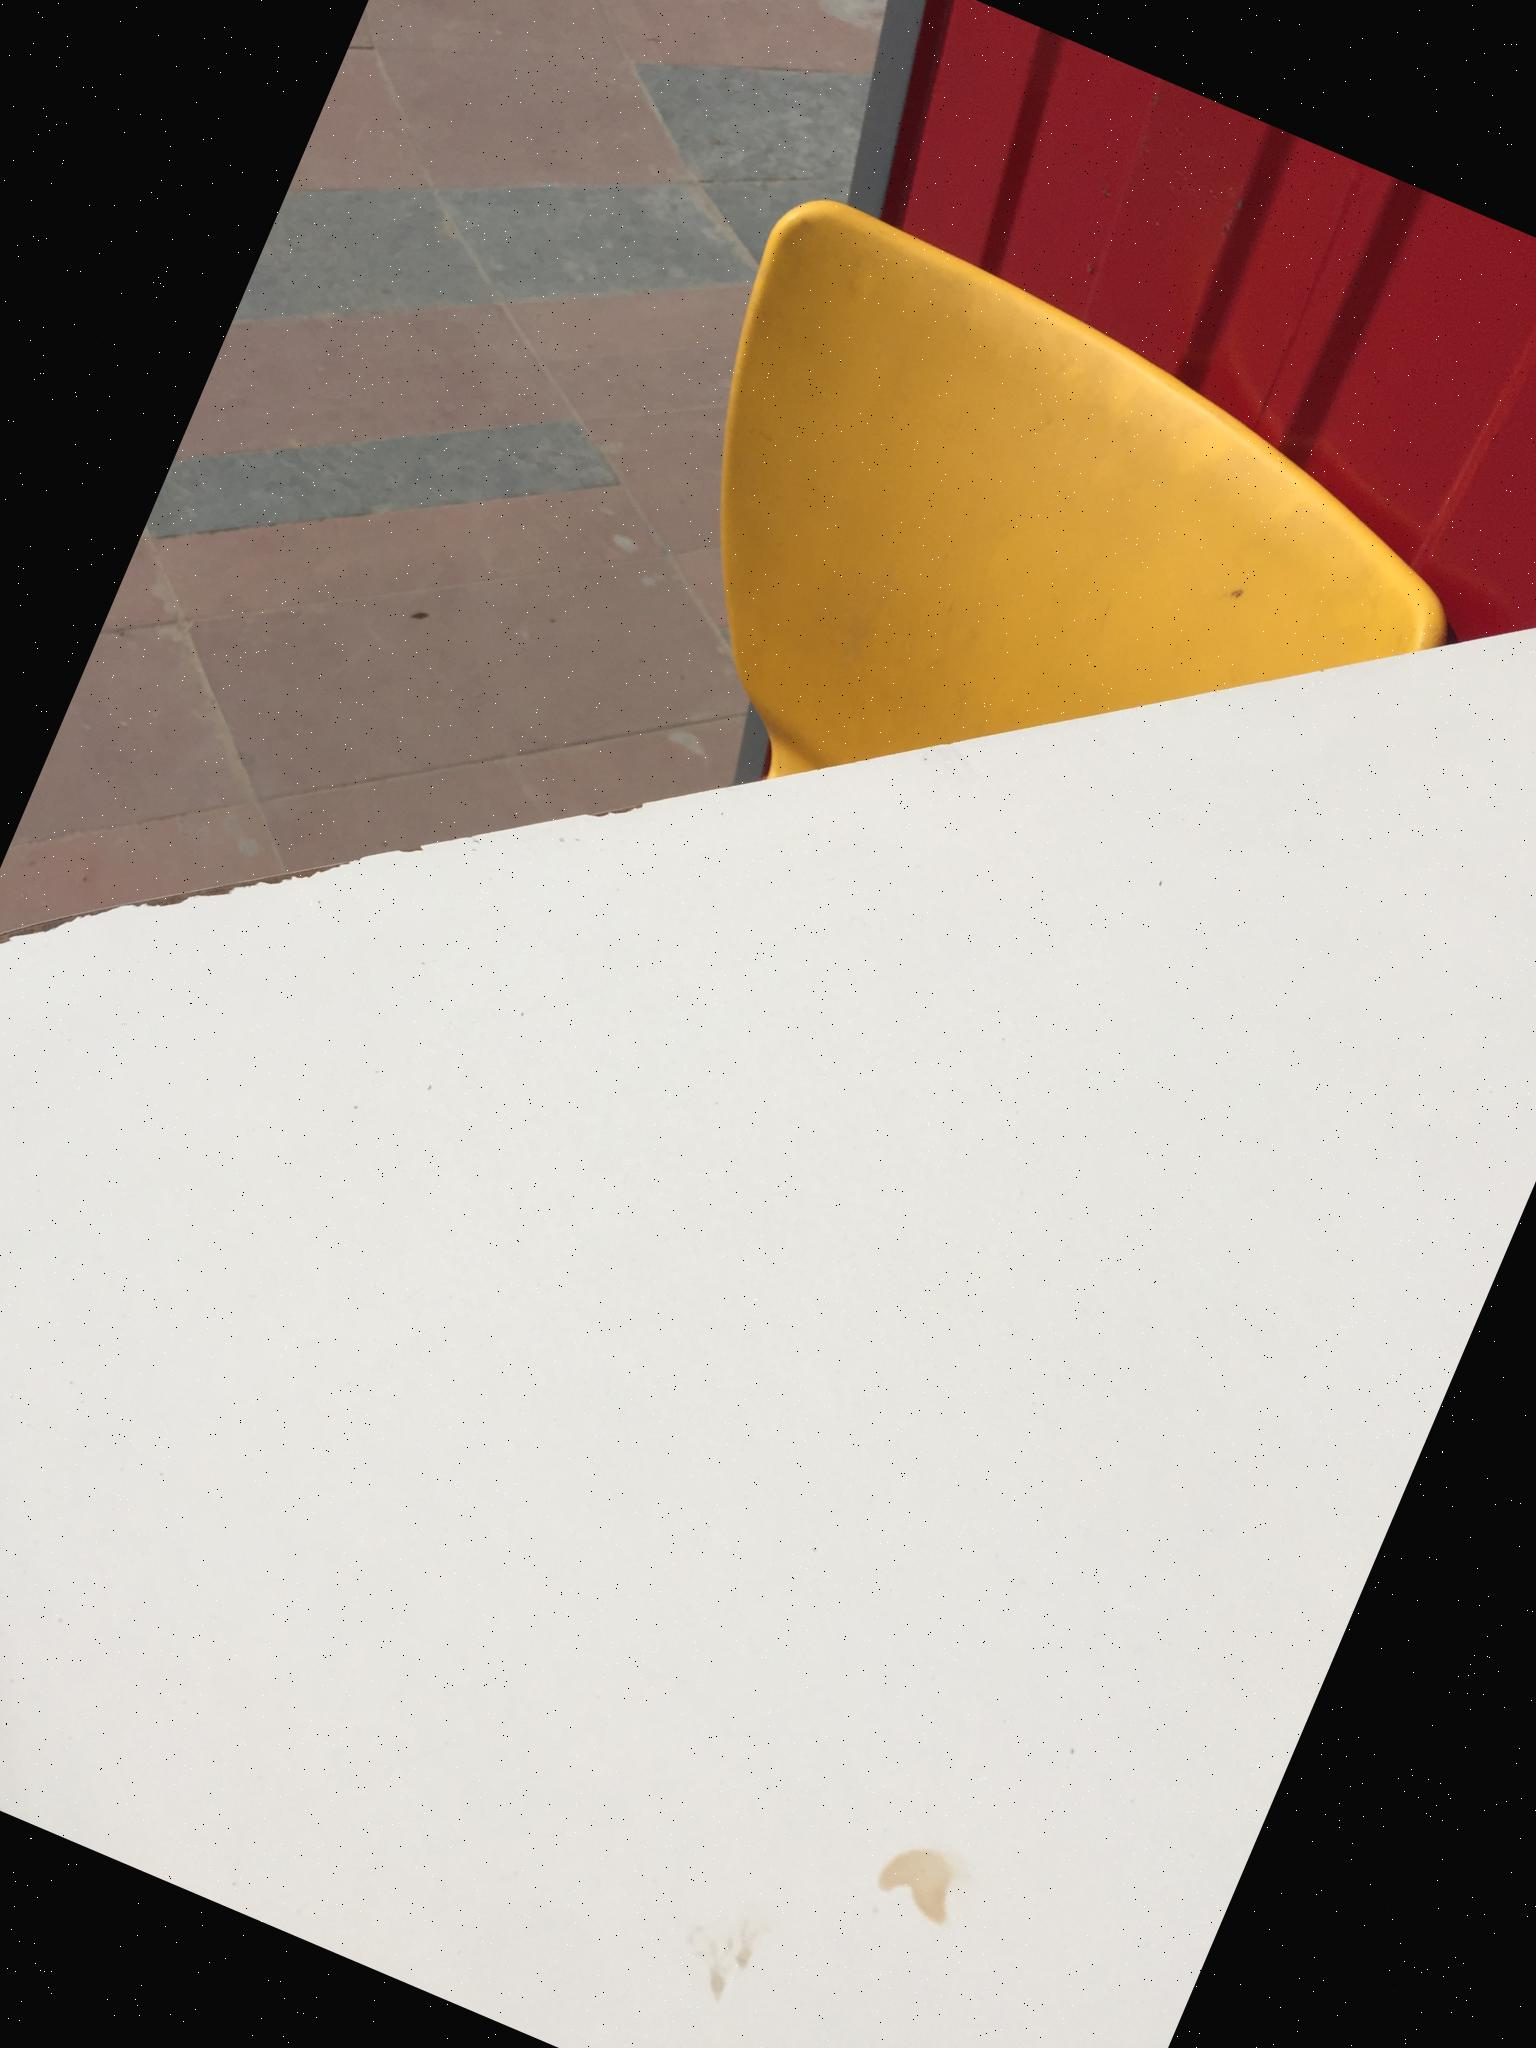chair: (565, 176, 1515, 1016)
